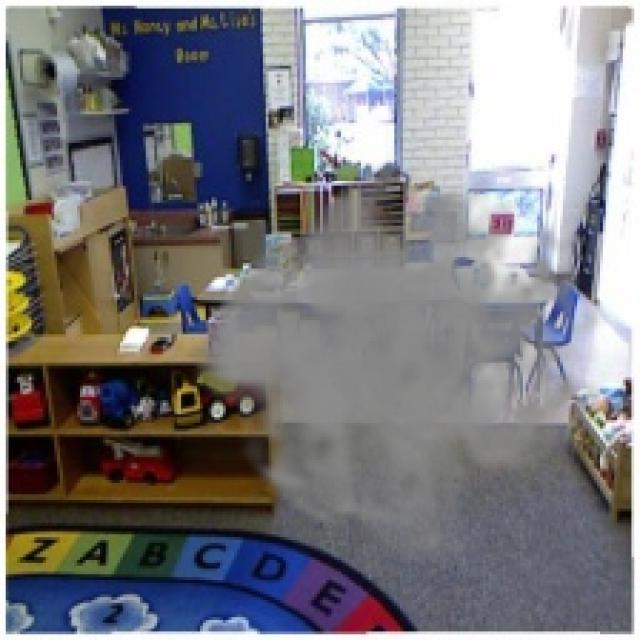smoke: (191, 148, 606, 572)
